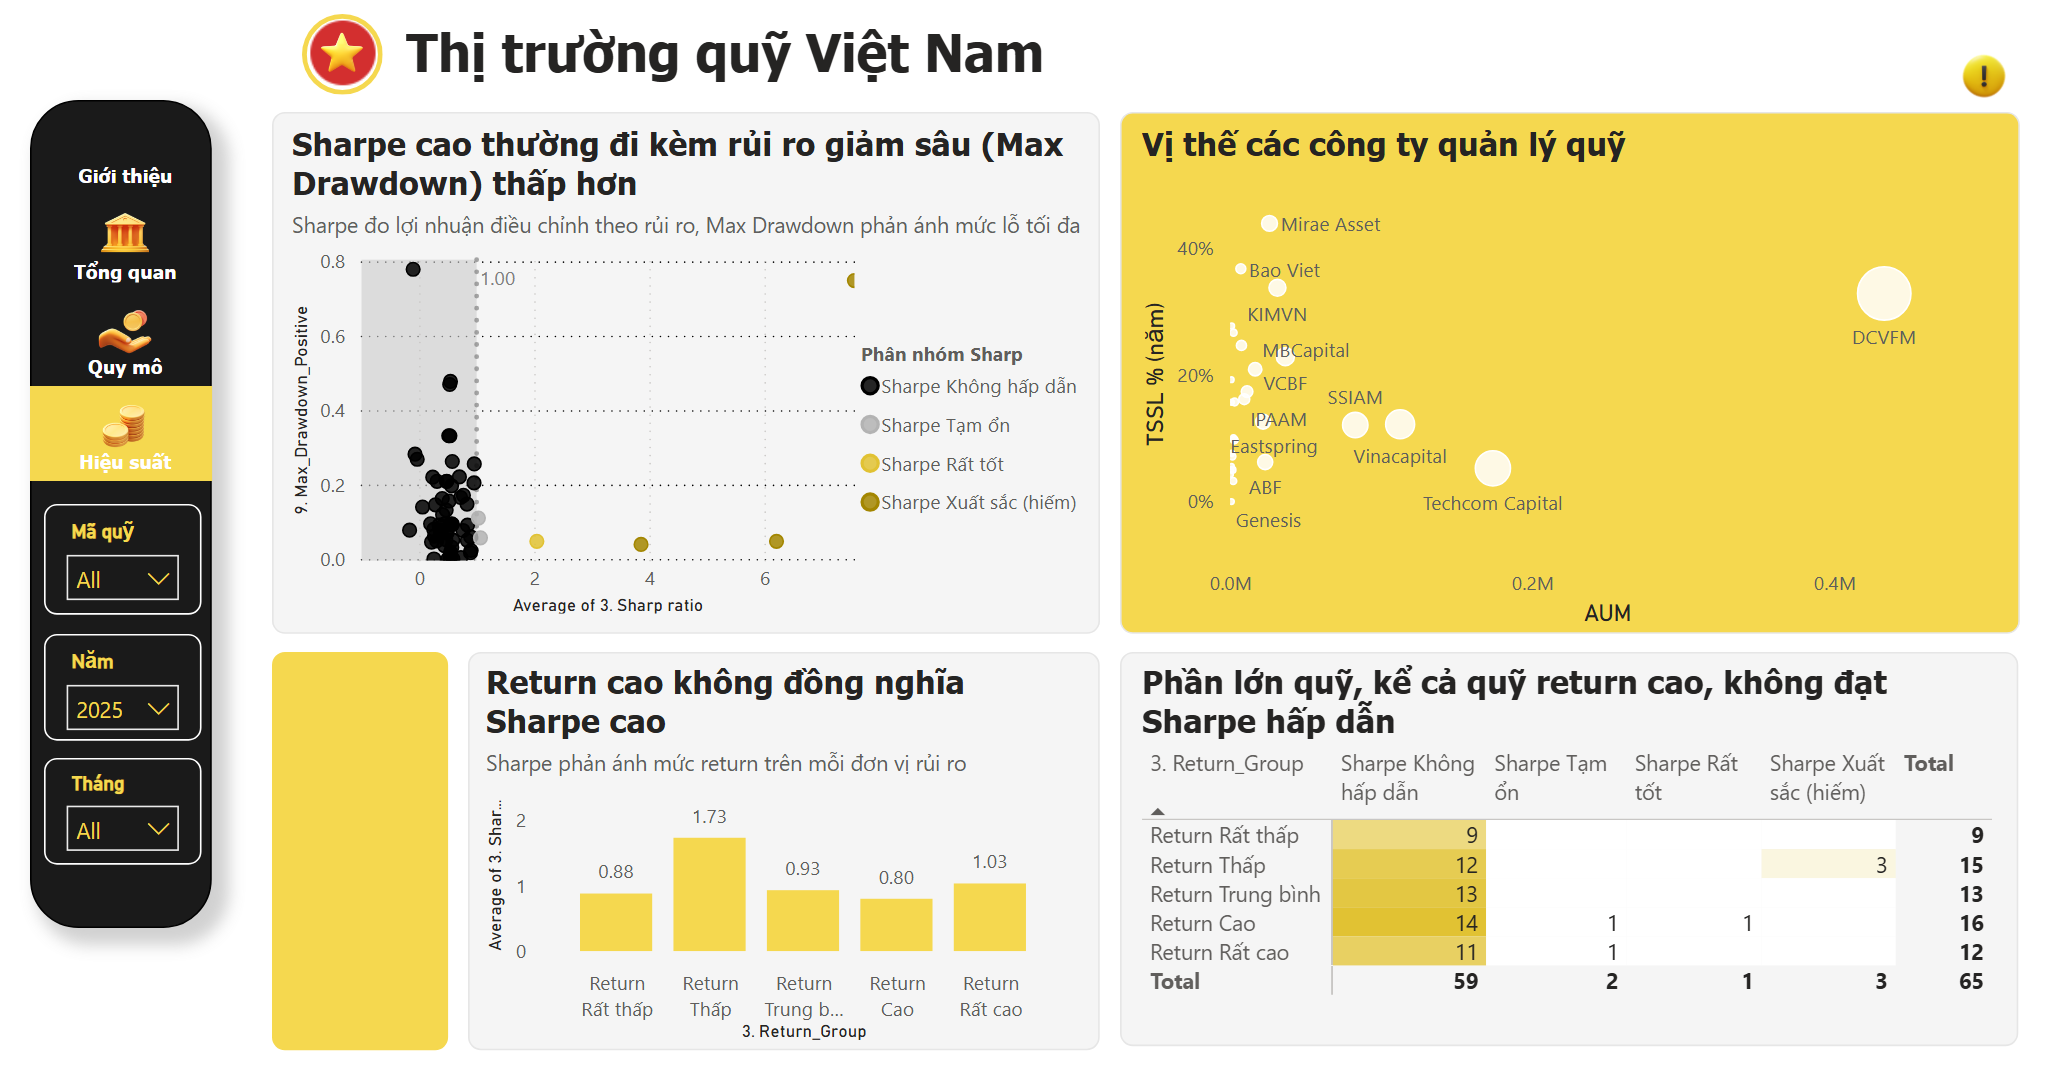

This screenshot's page, from the dashboard's own definition file:
{"tool":"powerbi","page":{"name":"Hiệu suất","canvas":[1280,720],"ordinal":3},"visuals":[{"type":"actionButton","box":[1210.7,71.8,39.6,39.6],"z":0},{"type":"textbox","box":[21.5,106.3,112.7,512.7],"z":1000},{"type":"textbox","box":[0,0,1279.7,37.8],"z":2000},{"type":"textbox","box":[170.8,113.9,512.5,323.1],"z":3000},{"type":"textbox","box":[292.1,448.1,391.2,246.3],"z":4000},{"type":"textbox","box":[695.7,448.1,555.8,243.9],"z":5000},{"type":"shape","box":[21.6,16.2,13.5,14.9],"z":6000},{"type":"shape","box":[37.8,16.2,13.5,14.9],"z":7000},{"type":"shape","box":[55.1,16.3,14.3,14.3],"z":8000},{"type":"textbox","box":[249.1,51.8,418.2,61.8],"z":9000},{"type":"image","box":[182,48.3,65.6,58.2],"z":10000},{"type":"textbox","box":[695.7,113.9,557.1,323.1],"z":11000},{"type":"shape","box":[190,52.9,50,50],"z":12000},{"type":"slicer","fields":{"Values":["Data.Fund_Code"]},"box":[29.1,357,97.5,68.4],"z":13000},{"type":"image","box":[190.6,56.9,47,39.6],"z":14000},{"type":"pieChart","fields":{"Y":["CountNonNull(Data quỹ nội.1. ID)"]},"box":[1210,72.6,41.5,38.9],"z":15000},{"type":"pageNavigator","box":[21,106.5,113.9,238.9],"z":16000},{"type":"image","box":[56.9,168.4,45.8,40.9],"z":17000},{"type":"image","box":[56.9,226.5,45.8,44.6],"z":18000},{"type":"image","box":[55.7,287.2,47,40.9],"z":19000},{"type":"slicer","fields":{"Values":["Data.Year"]},"box":[29.1,436.7,97.5,65.8],"z":20000},{"type":"slicer","fields":{"Values":["Data.Month"]},"box":[29.1,513.9,97.5,65.8],"z":21000},{"type":"scatterChart","title":"Vị thế các công ty quản lý quỹ ","fields":{"Category":["Quỹ nội.5. Công ty quản lý Q.Nội"],"X":["_Measure.5. AUM"],"Y":["_Measure.7. Return Year Fund"],"Size":["Sum(Data quỹ nội.3. NAV (billion VND))"]},"box":[704.4,121.3,545.9,315.7],"z":22000},{"type":"clusteredColumnChart","title":"Return cao không đồng nghĩa Sharpe cao","fields":{"Category":["Dim_Fund.Return_Group"],"Y":["Avg(1. Data quỹ nội.3. Sharp ratio)"]},"box":[298.3,454.3,368.9,238.9],"z":23000},{"type":"pivotTable","title":"Phần lớn quỹ, kể cả quỹ return cao, không đạt Sharpe hấp dẫn","fields":{"Rows":["Dim_Fund.Return_Group"],"Columns":["1. Data quỹ nội.Sharpe_Group"],"Values":["_Measure.Fund_Count_12M"]},"box":[704.4,454.3,545.9,229],"z":24000},{"type":"scatterChart","title":"Sharpe cao thường đi kèm rủi ro giảm sâu (Max Drawdown) thấp hơn","fields":{"Category":["1. Data quỹ nội.1. Fund Code"],"X":["Avg(1. Data quỹ nội.3. Sharp ratio)"],"Y":["_Measure.Max_Drawdown_Positive"],"Series":["1. Data quỹ nội.Sharpe_Group"]},"box":[178.3,121.3,505.1,308.2],"z":25000},{"type":"textbox","box":[170.8,448.1,108.9,246.3],"z":26000}]}

Visuals, with their boxes on the page's 1280x720 design canvas (x1, y1, x2, y2). These are canvas units, not pixel positions in the 2062x1090 screenshot, which may show the page scaled, cropped or inside an application window:
actionButton: bbox=(1211, 72, 1250, 111)
textbox: bbox=(22, 106, 134, 619)
textbox: bbox=(0, 0, 1280, 38)
textbox: bbox=(171, 114, 683, 437)
textbox: bbox=(292, 448, 683, 694)
textbox: bbox=(696, 448, 1252, 692)
shape: bbox=(22, 16, 35, 31)
shape: bbox=(38, 16, 51, 31)
shape: bbox=(55, 16, 69, 31)
textbox: bbox=(249, 52, 667, 114)
image: bbox=(182, 48, 248, 106)
textbox: bbox=(696, 114, 1253, 437)
shape: bbox=(190, 53, 240, 103)
slicer - Data.Fund_Code: bbox=(29, 357, 127, 425)
image: bbox=(191, 57, 238, 96)
pieChart - CountNonNull(Data quỹ nội.1. ID): bbox=(1210, 73, 1252, 112)
pageNavigator: bbox=(21, 106, 135, 345)
image: bbox=(57, 168, 103, 209)
image: bbox=(57, 226, 103, 271)
image: bbox=(56, 287, 103, 328)
slicer - Data.Year: bbox=(29, 437, 127, 502)
slicer - Data.Month: bbox=(29, 514, 127, 580)
"Vị thế các công ty quản lý quỹ " scatterChart: bbox=(704, 121, 1250, 437)
"Return cao không đồng nghĩa Sharpe cao" clusteredColumnChart: bbox=(298, 454, 667, 693)
"Phần lớn quỹ, kể cả quỹ return cao, không đạt Sharpe hấp dẫn" pivotTable: bbox=(704, 454, 1250, 683)
"Sharpe cao thường đi kèm rủi ro giảm sâu (Max Drawdown) thấp hơn" scatterChart: bbox=(178, 121, 683, 430)
textbox: bbox=(171, 448, 280, 694)
